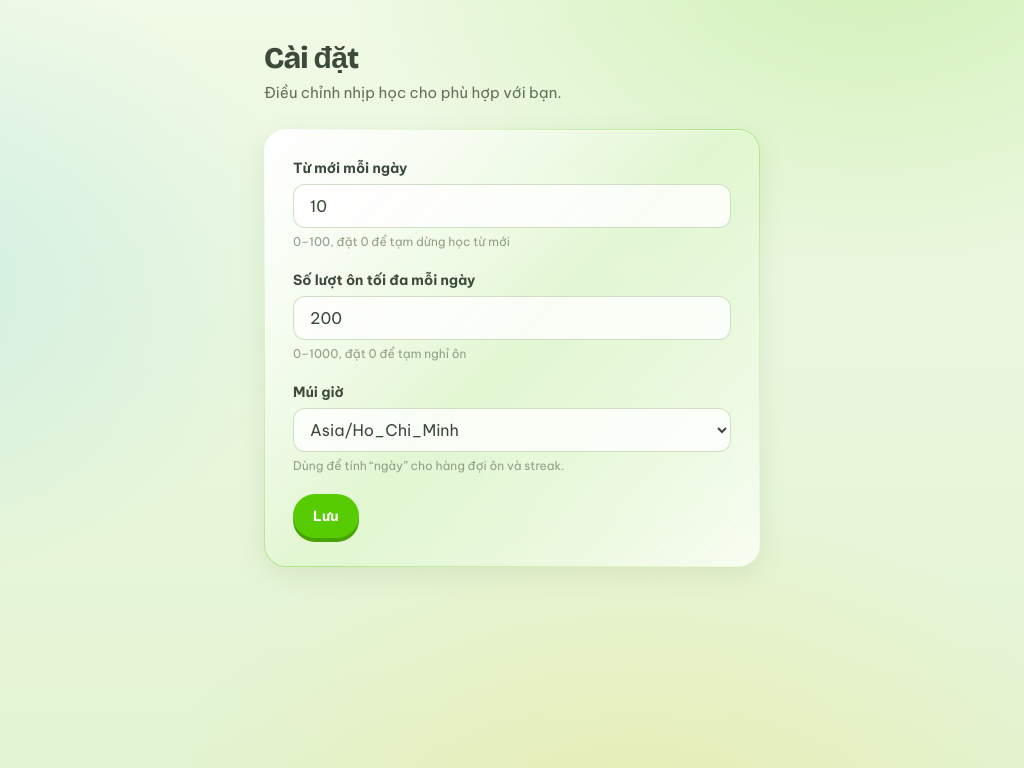
Test: shows a validation error when the server rejects a valid-looking value
The width and height of the screenshot is (1024, 768).
Replace the text in the number field labelled "Từ mới mỗi ngày" with "50" at (512, 206), box [293, 184, 731, 228]
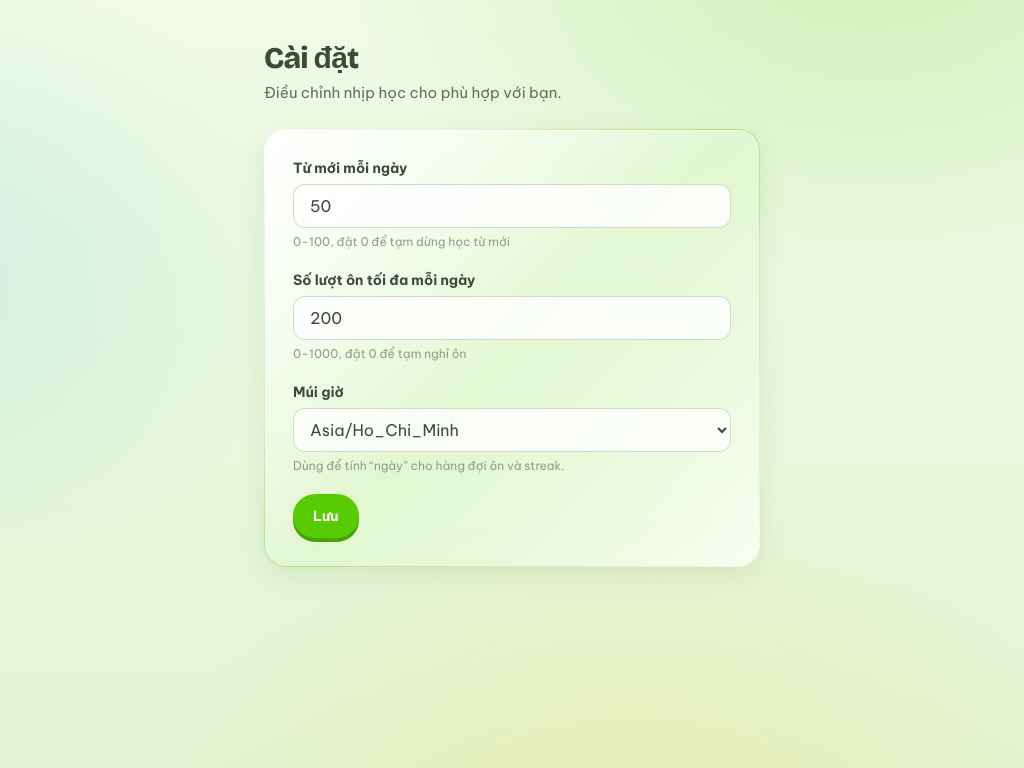
Click the button "Lưu".
click(326, 516)  # box [293, 494, 358, 538]
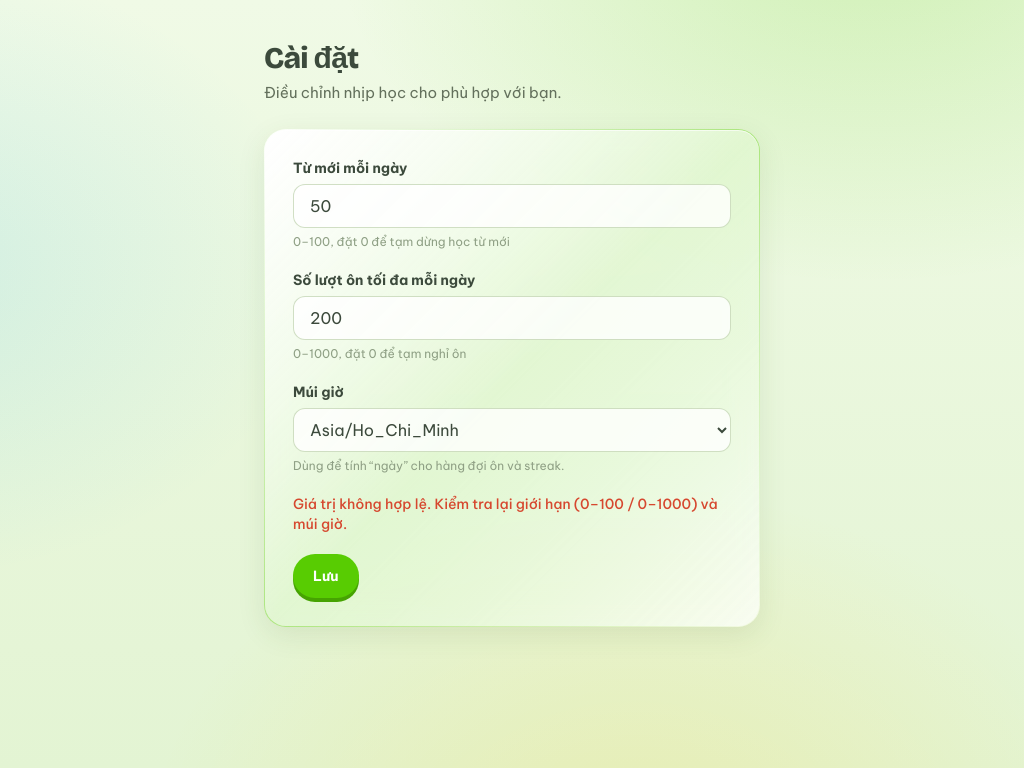
Expected: the message shows "không hợp lệ", [293, 494, 718, 532]
